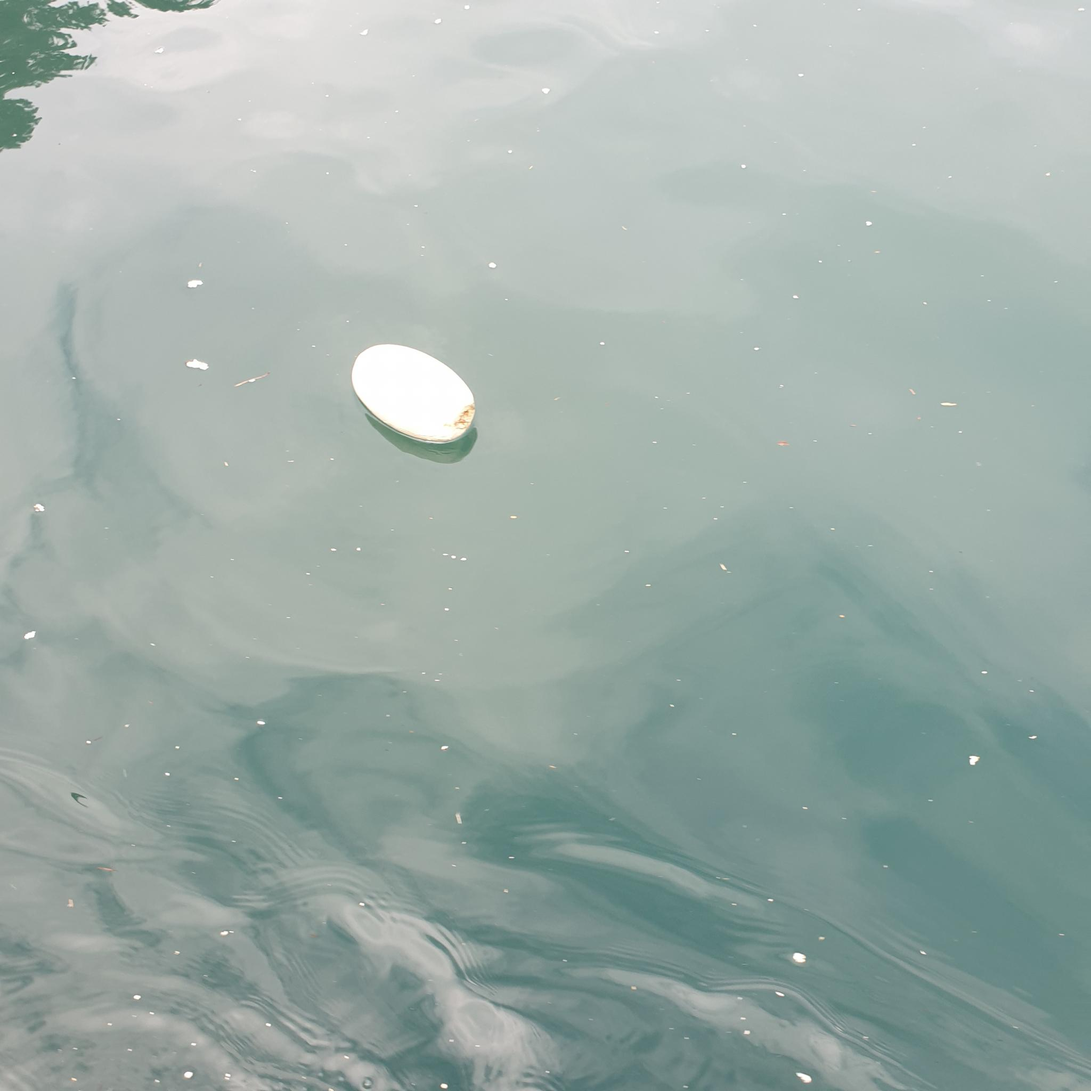sampah_terapung: (352, 344, 476, 442)
